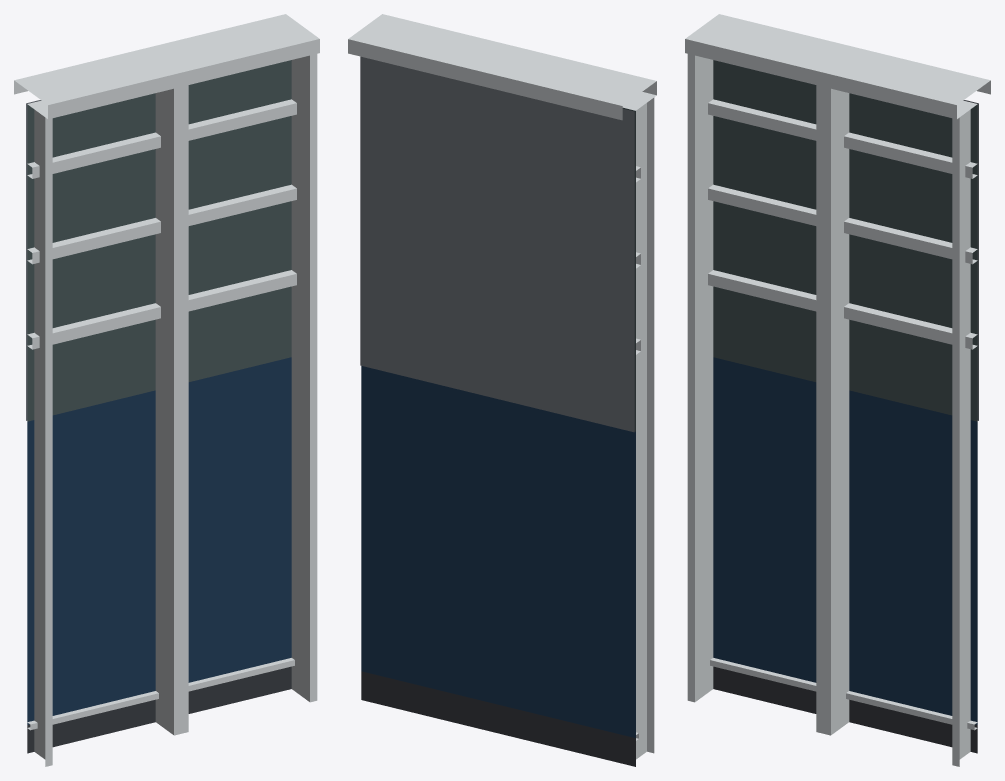
The model's file is top-w1.fbx.
3 renders of one model, left to right at view 1: azimuth 30°, elevation 25°; view 2: azimuth 150°, elevation 25°; view 3: azimuth 330°, elevation 25°, orthographic.
Visible parts, largest first — view 1: a2012/200/top-w1; view 2: a2012/200/top-w1; view 3: a2012/200/top-w1.
Part boxes in pixels (x1,y1,x2,y2): a2012/200/top-w1: (14,14,319,766); a2012/200/top-w1: (348,14,656,766); a2012/200/top-w1: (685,14,990,766).
Size of the model in its own units: 3 by 7 by 0.65.
